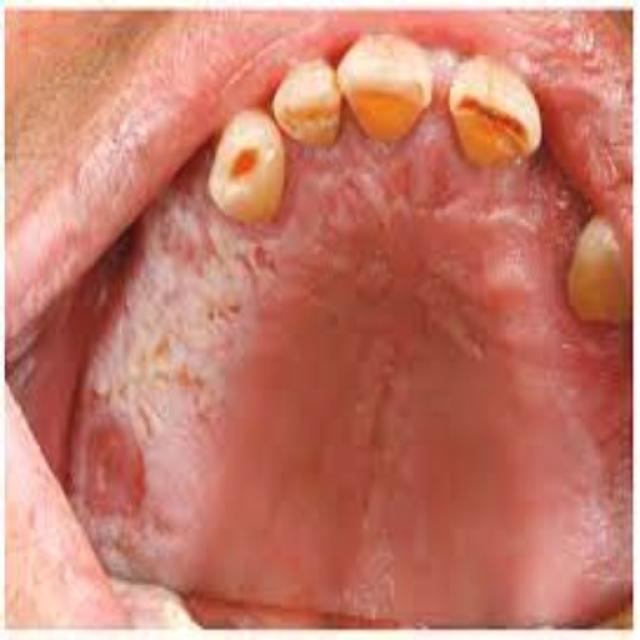leukoplakia-detection: (73, 143, 339, 600)
processing_area: (75, 66, 633, 638)
